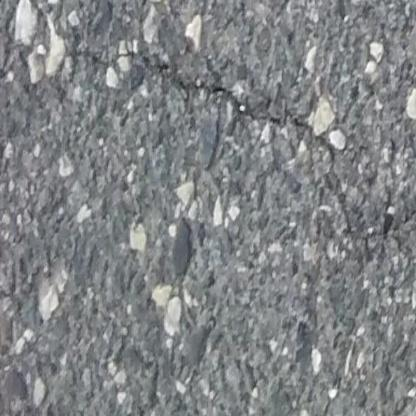Cracks: (68, 46, 338, 164), (382, 202, 416, 246)
